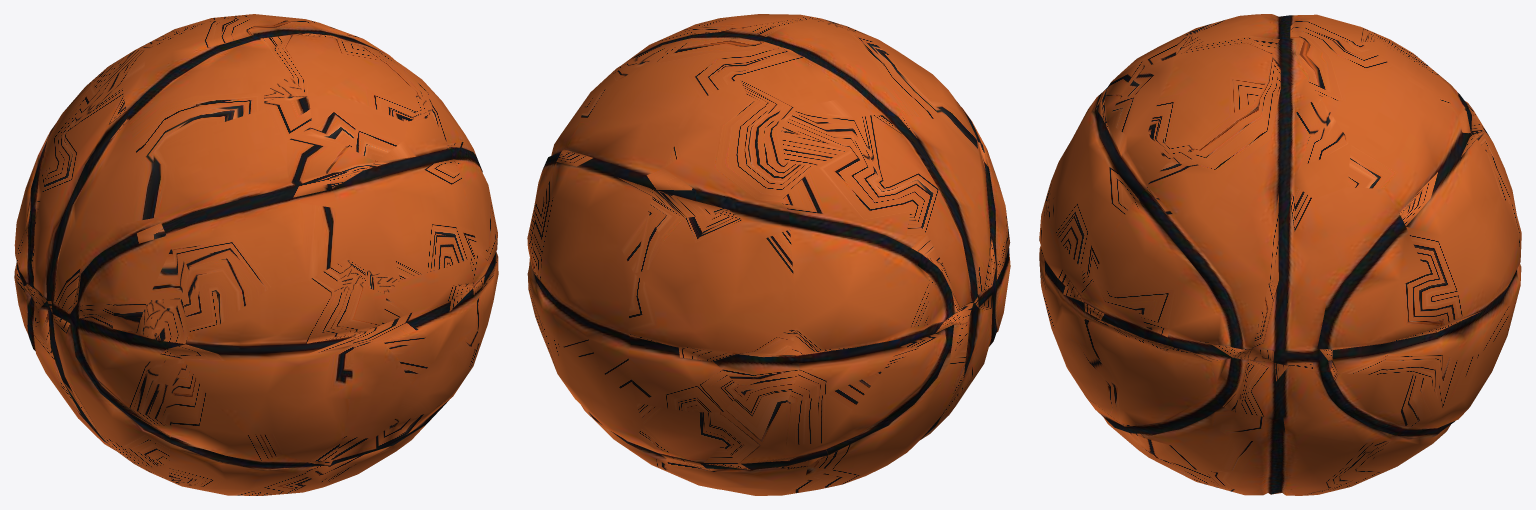
Rendered from ball_basketball.glb.
The picture shows the model from 3 angles, left to right: view 1: azimuth 30°, elevation 25°; view 2: azimuth 150°, elevation 25°; view 3: azimuth 270°, elevation 25°; orthographic projection.
Parts seen in each view (by area): view 1: tripo_node_9f216281-64ab-43c3-89ea-da6adb262980; view 2: tripo_node_9f216281-64ab-43c3-89ea-da6adb262980; view 3: tripo_node_9f216281-64ab-43c3-89ea-da6adb262980.
Part boxes in pixels (x1,y1,x2,y2): tripo_node_9f216281-64ab-43c3-89ea-da6adb262980: (14,14,498,495); tripo_node_9f216281-64ab-43c3-89ea-da6adb262980: (527,14,1010,495); tripo_node_9f216281-64ab-43c3-89ea-da6adb262980: (1039,14,1521,495).
Bounding box in the file's own units: 0.9994 × 0.9965 × 0.9971.
Materials: 1 (1 with a texture image).
